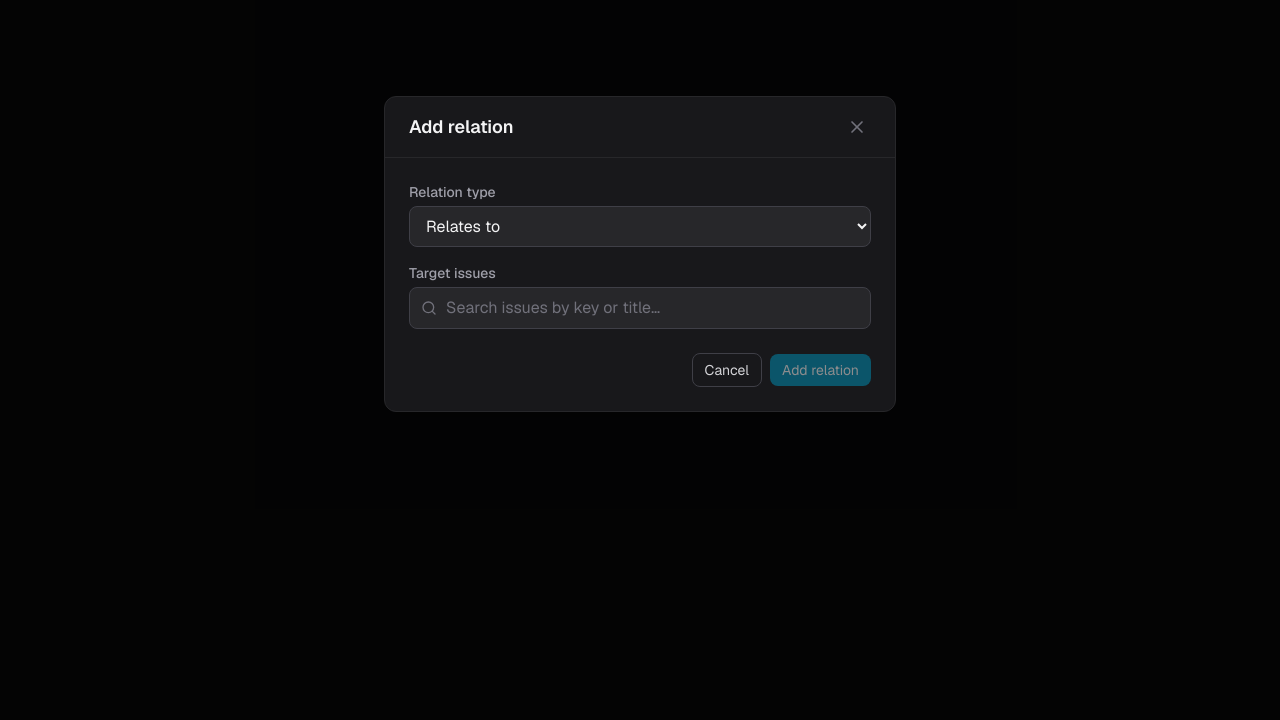
Test: AddRelationModal › renders the friendly ALREADY_EXISTS message when the backend rejects the create
Step 1. Type "tar" into the dropdown labelled "Target issues" → x=640, y=308, box [409, 287, 871, 329]
Wait 300 ms
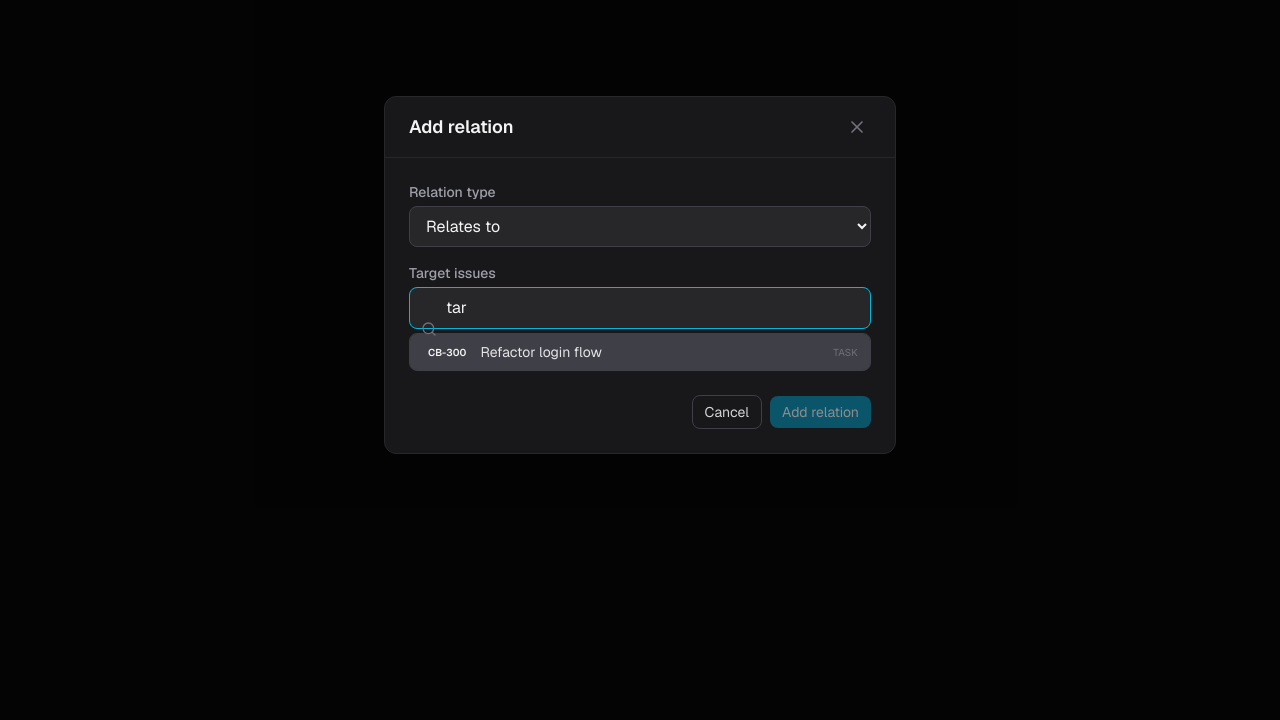
Step 2. Press the mouse on the option "CB-300 Refactor login flow TASK" → x=447, y=352, box [410, 334, 870, 370]
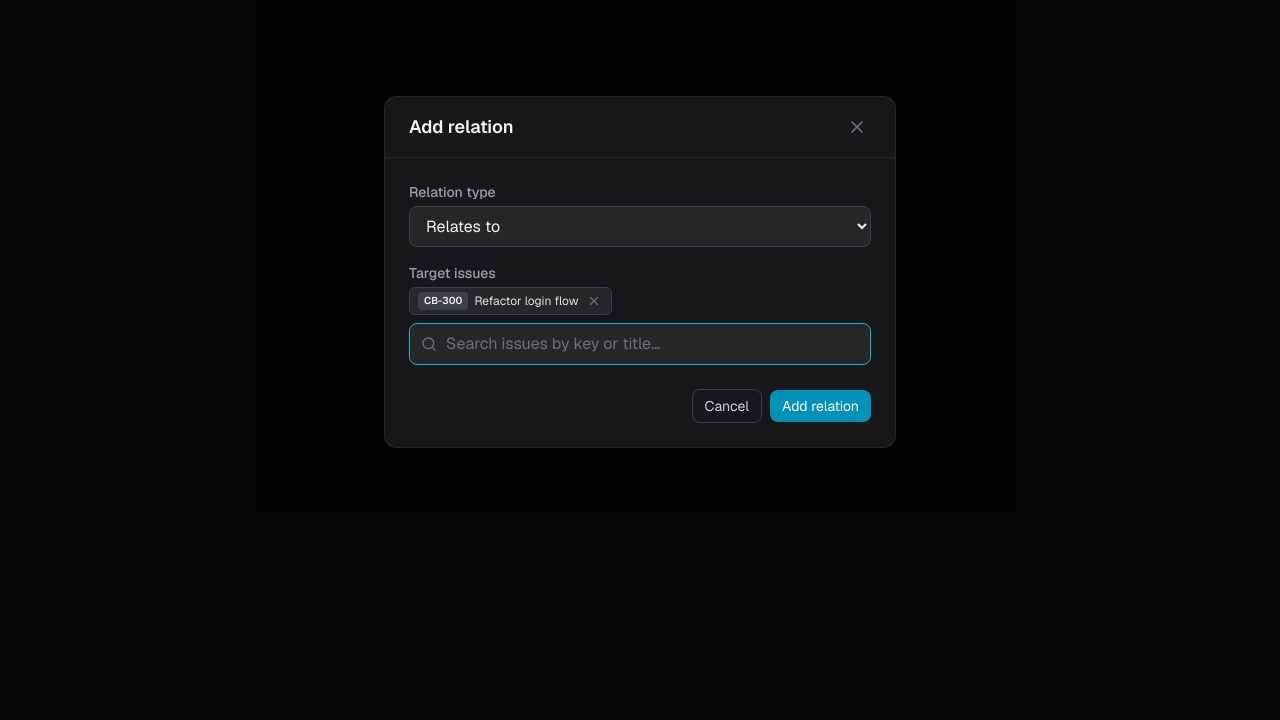
Step 3. Click the button "Add relation" → x=820, y=406, box [770, 390, 871, 422]
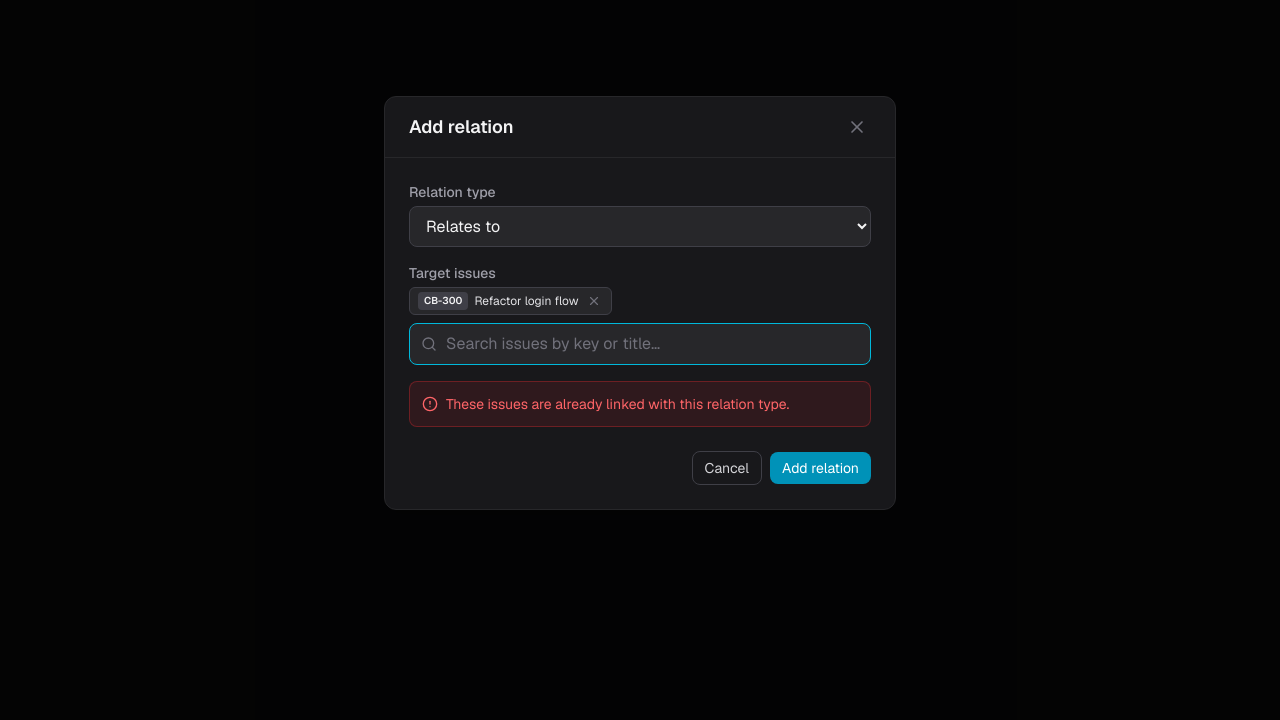
Expected: the text "These issues are already linked with this relation type." is shown, [446, 394, 789, 414]
Expected: the message "These issues are already linked with this relation type." is shown, [409, 381, 871, 427]
